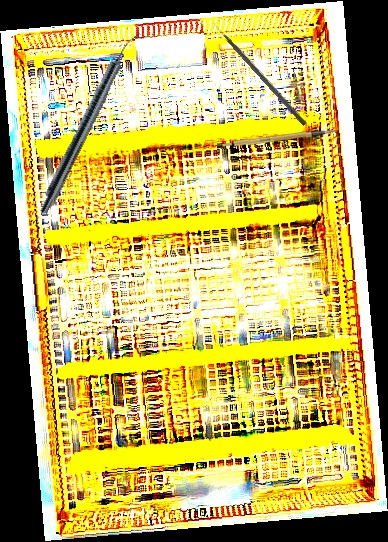Handpiece: (36, 26, 142, 218)
Hook Surgical: (211, 20, 308, 126)
Scalpel Handle: (216, 126, 338, 153)
